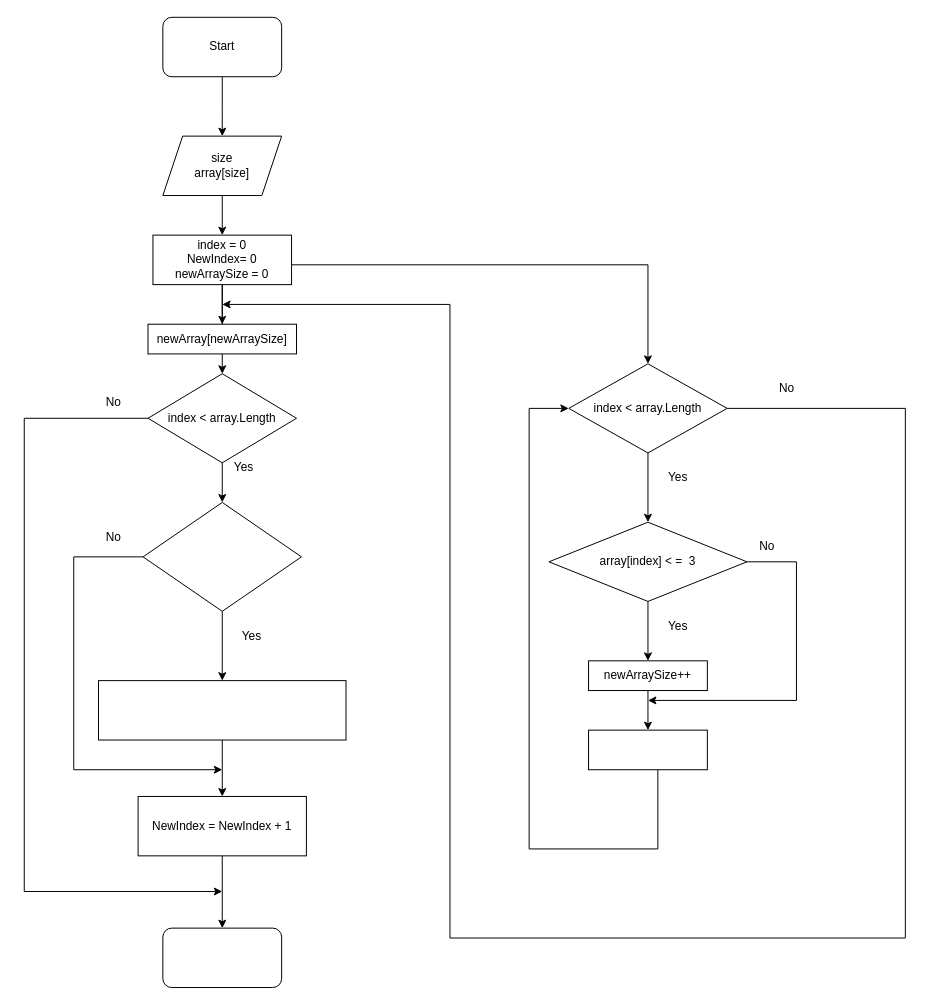
This 931x1005 diagram has some shape labels left out. Each missing label, with the centre of its shape:
"array[index]length <= 3" goes at (221,556).
"End" goes at (222,957).
"index = index + 1" goes at (647,749).
"newArray[indexNew] = array[index] NewIndex++" goes at (222,710).
